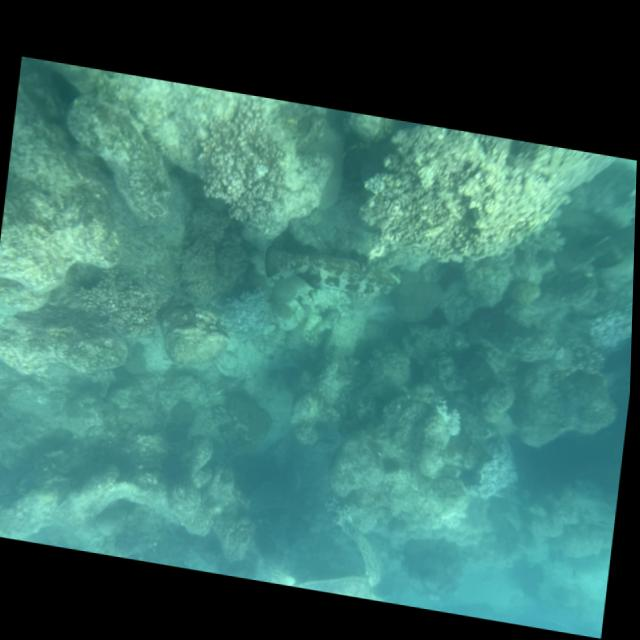Groupers: (262, 239, 403, 303)
